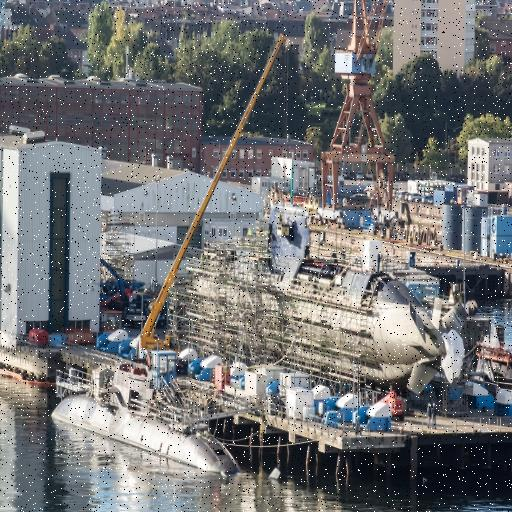submarine: (184, 235, 459, 382), (43, 356, 245, 477)
